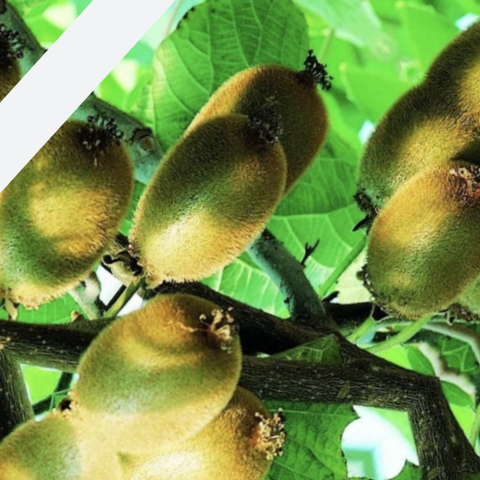kiwi: (76, 71, 336, 335), (25, 238, 274, 480), (0, 63, 202, 346), (323, 130, 480, 354)
